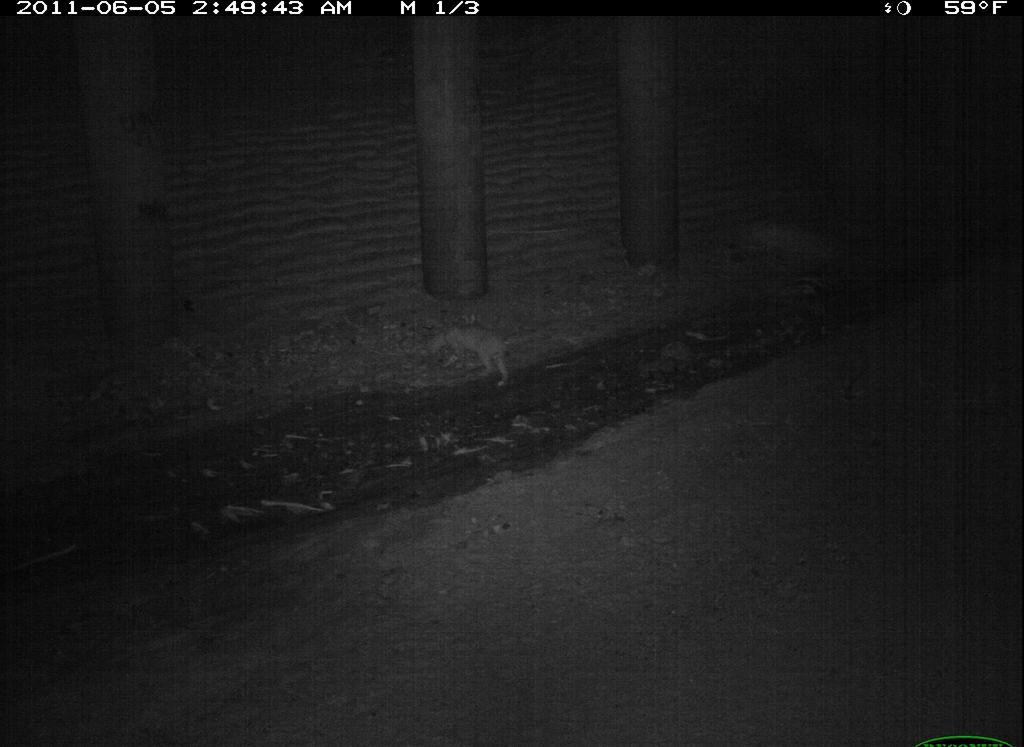bobcat: (840, 633, 1024, 747)
